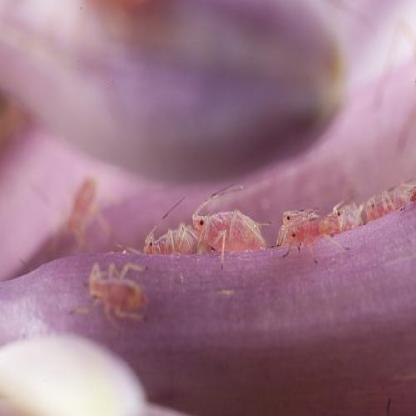aphid: (196, 190, 264, 262), (86, 256, 144, 322), (60, 172, 107, 249), (135, 210, 199, 261), (276, 200, 323, 250), (366, 172, 414, 219), (320, 187, 361, 236)
